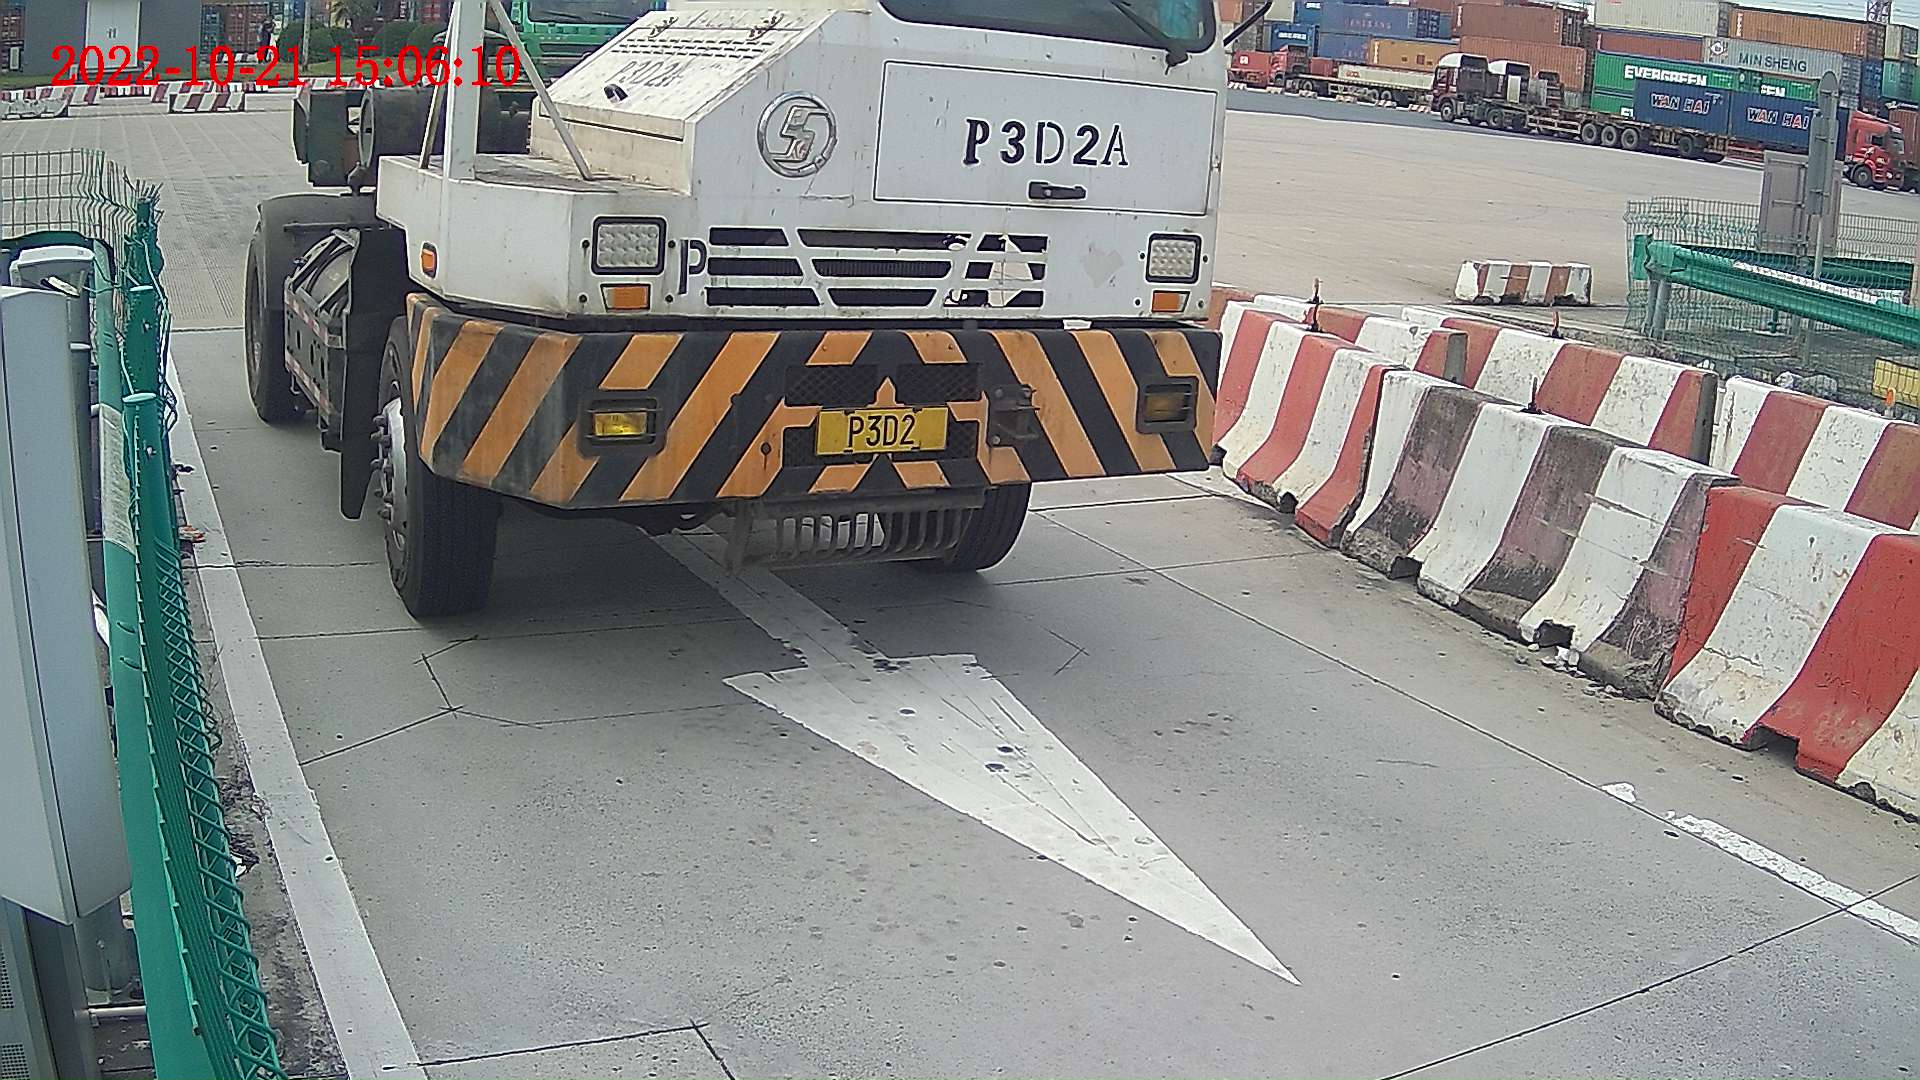head: (380, 1, 1229, 619)
plate: (816, 410, 951, 456)
